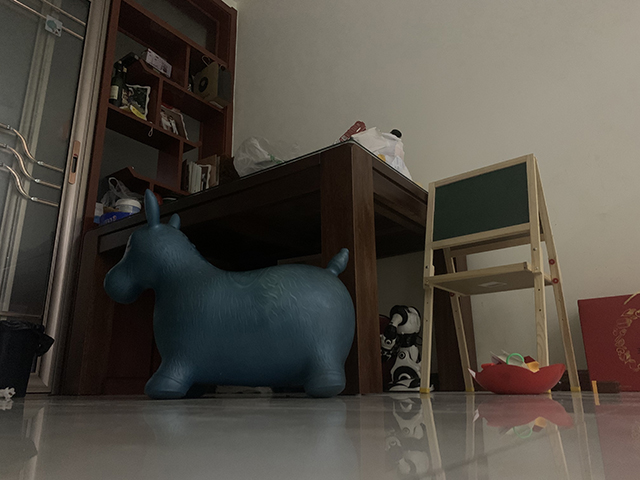table: (57, 138, 480, 400)
